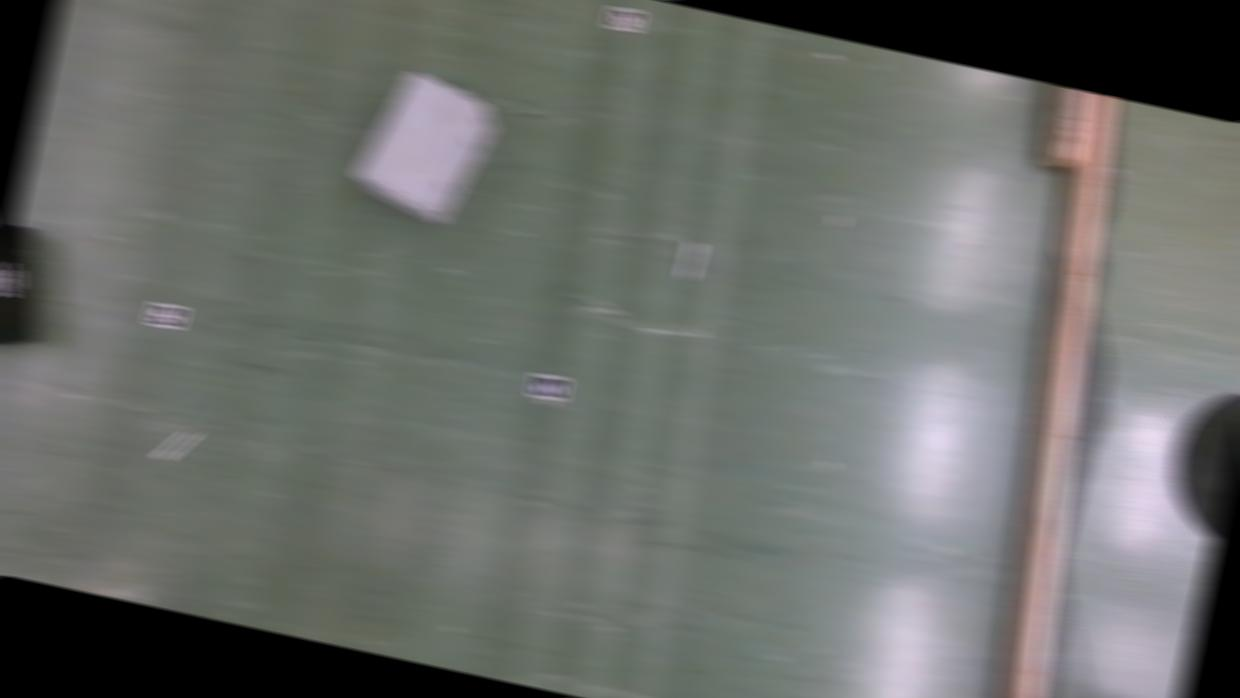probes: (157, 427, 196, 467), (679, 243, 704, 283)
rako: (346, 66, 504, 234), (0, 223, 61, 365)
